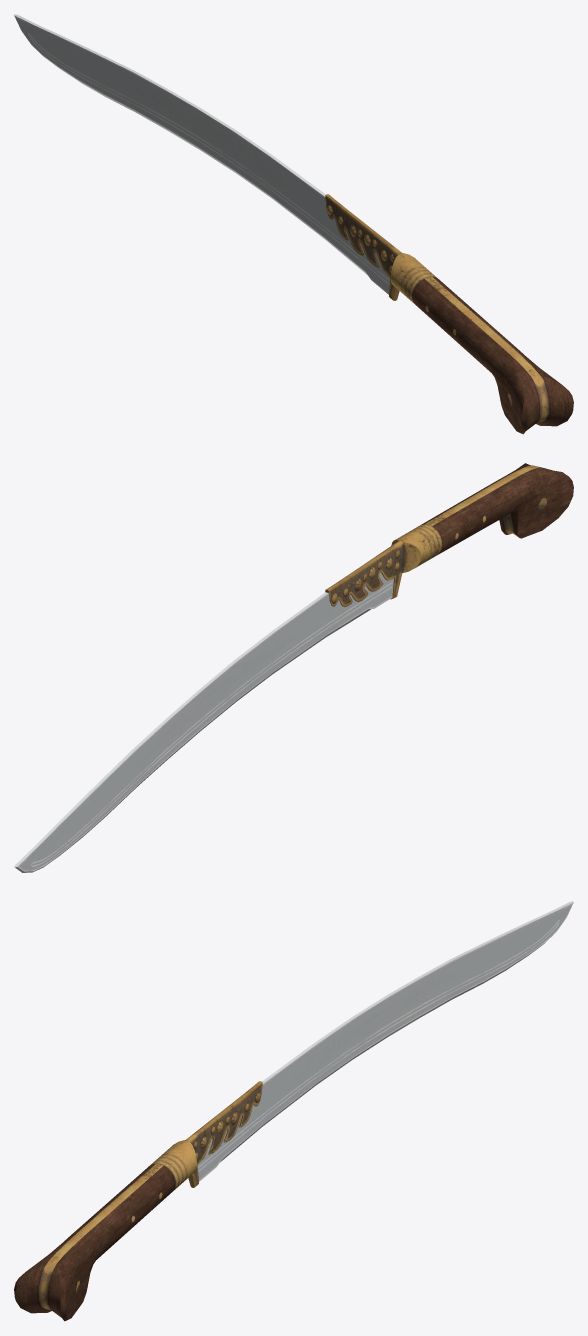
File: b_yatagan.glb
3 renders of one model, top to bottom at view 1: azimuth 30°, elevation 25°; view 2: azimuth 150°, elevation 25°; view 3: azimuth 330°, elevation 25°, orthographic.
Parts seen in each view (by area): view 1: govde; view 2: govde; view 3: govde.
Part boxes in pixels (x1,y1,x2,y2): govde: (14,14,573,434); govde: (14,463,573,872); govde: (14,901,573,1321).
Bounding box in the file's own units: 0.0335 × 0.0531 × 0.6.
3 materials, 3 textured.
